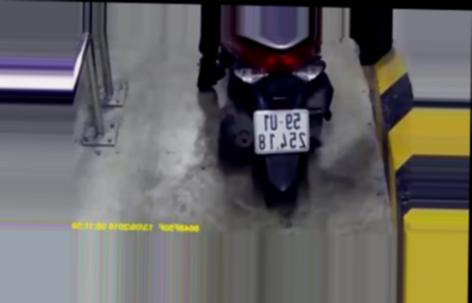License_Plate: (247, 105, 313, 160)
